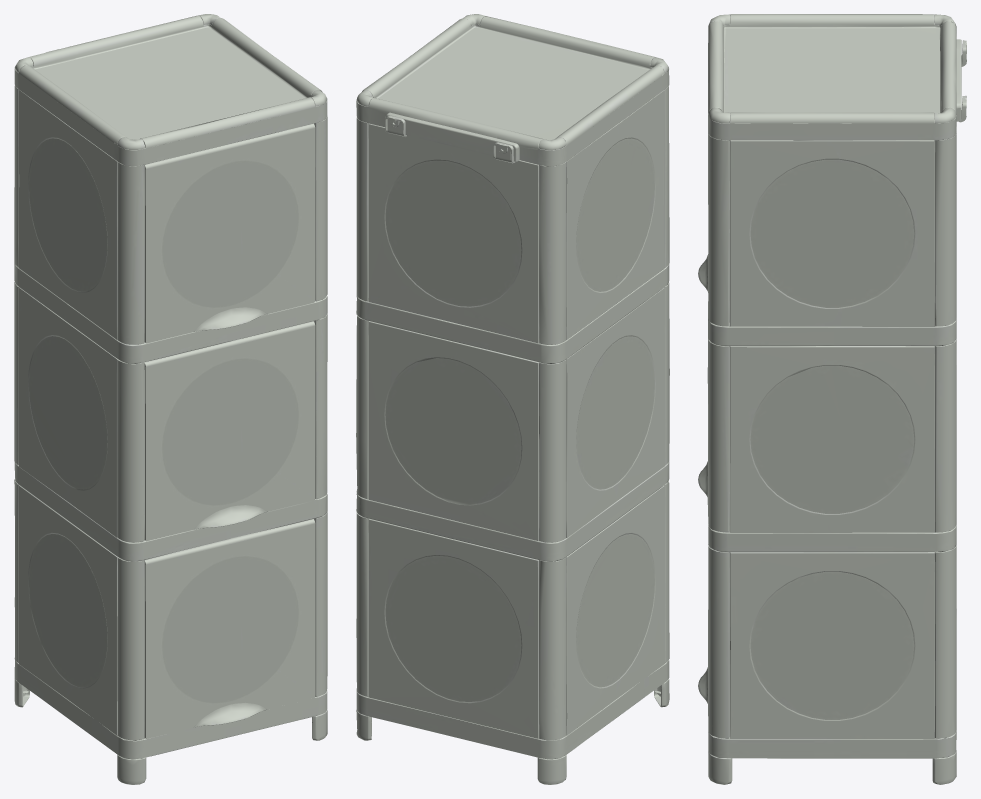
The model's file is ivosjon_szafka_drzwi_30569095.glb.
The picture shows the model from 3 angles, left to right: view 1: azimuth 30°, elevation 25°; view 2: azimuth 150°, elevation 25°; view 3: azimuth 270°, elevation 25°; orthographic projection. The views are drawn at different scales.
Visible parts, largest first — view 1: ivosjon_szafka_drzwi_30569095; view 2: ivosjon_szafka_drzwi_30569095; view 3: ivosjon_szafka_drzwi_30569095.
Boxes of the visible parts, bbox=[...] form: ivosjon_szafka_drzwi_30569095: bbox=[14, 14, 327, 784]; ivosjon_szafka_drzwi_30569095: bbox=[356, 14, 669, 784]; ivosjon_szafka_drzwi_30569095: bbox=[698, 14, 966, 784].
Size of the model in its own units: 0.3345 by 0.9907 by 0.3606.
2 materials, 2 textured.
